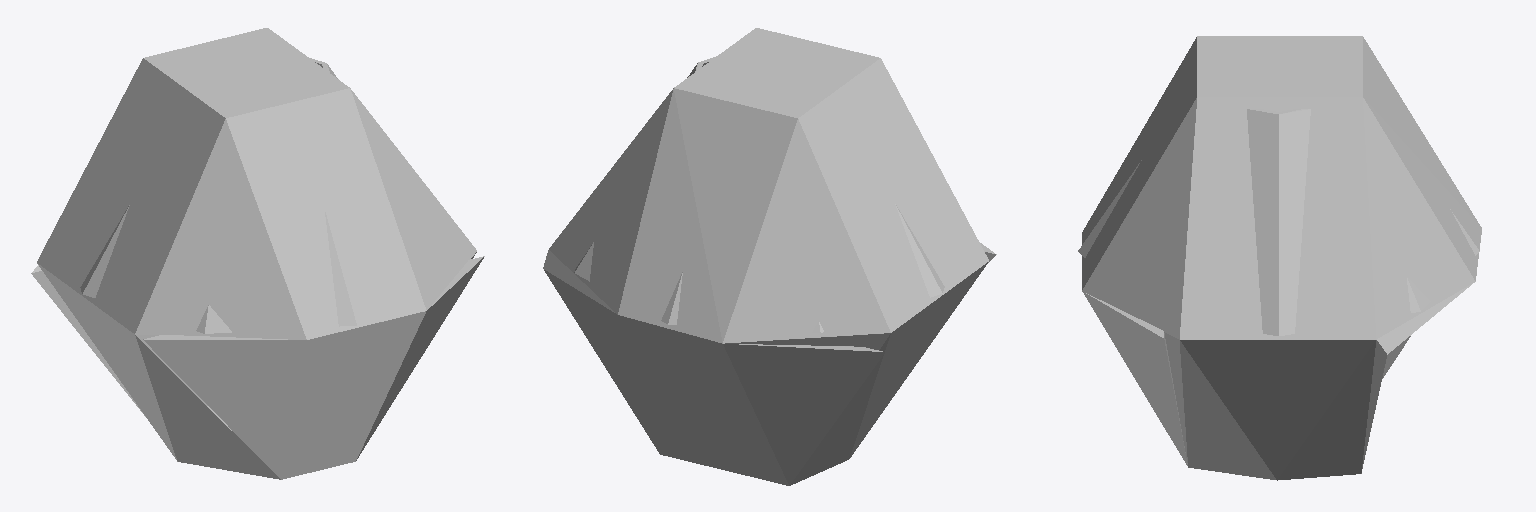
Rendered from lamp_convex.obj.
The picture shows the model from 3 angles: view 1: azimuth 30°, elevation 25°; view 2: azimuth 150°, elevation 25°; view 3: azimuth 270°, elevation 25°; orthographic projection.
Parts seen in each view (by area): view 1: Cube, pCylinder2_Corda_0; view 2: Cube, pCylinder2_Corda_0; view 3: Cube, pCylinder2_Corda_0.
Boxes of the visible parts, <box> form: Cube: <box>31,28,484,479</box>; pCylinder2_Corda_0: <box>80,58,367,430</box>; Cube: <box>543,28,996,485</box>; pCylinder2_Corda_0: <box>574,56,944,332</box>; Cube: <box>1082,36,1481,480</box>; pCylinder2_Corda_0: <box>1078,109,1479,335</box>.
Size of the model in its own units: 0.5653 by 0.5745 by 0.5685.